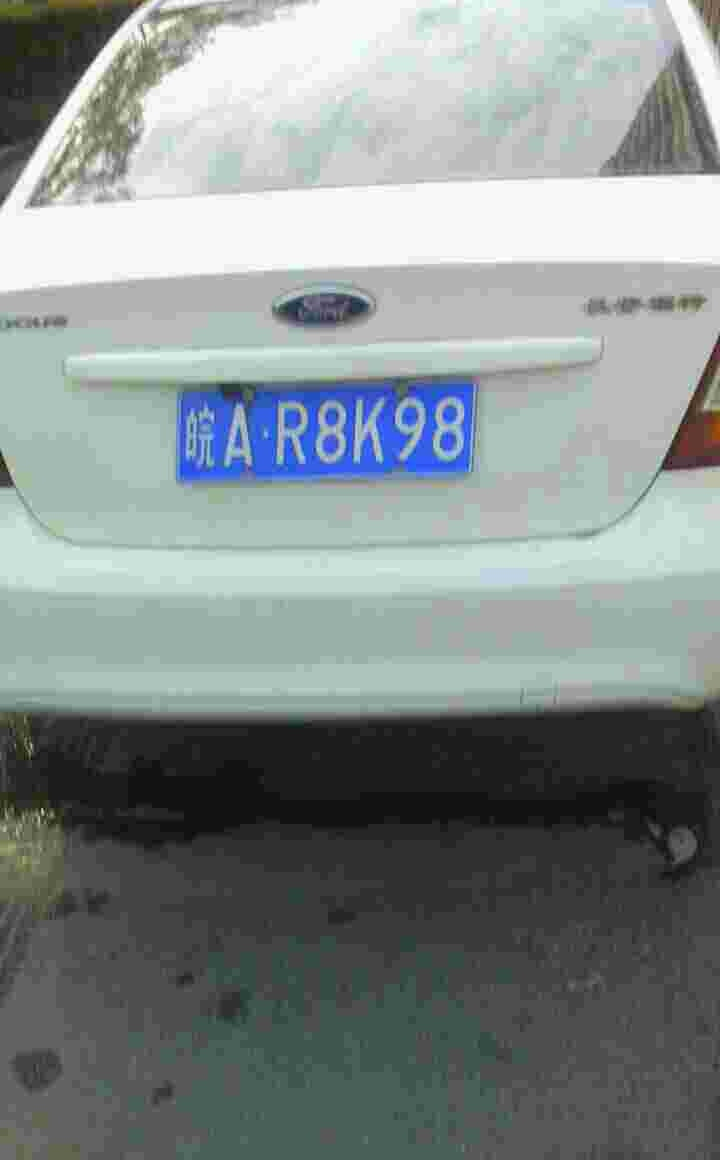license_plate: (171, 384, 476, 480)
